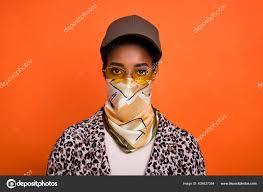cap: (102, 13, 177, 64)
scarf-kerchief: (105, 74, 157, 148)
sunglasses: (102, 64, 155, 88)
